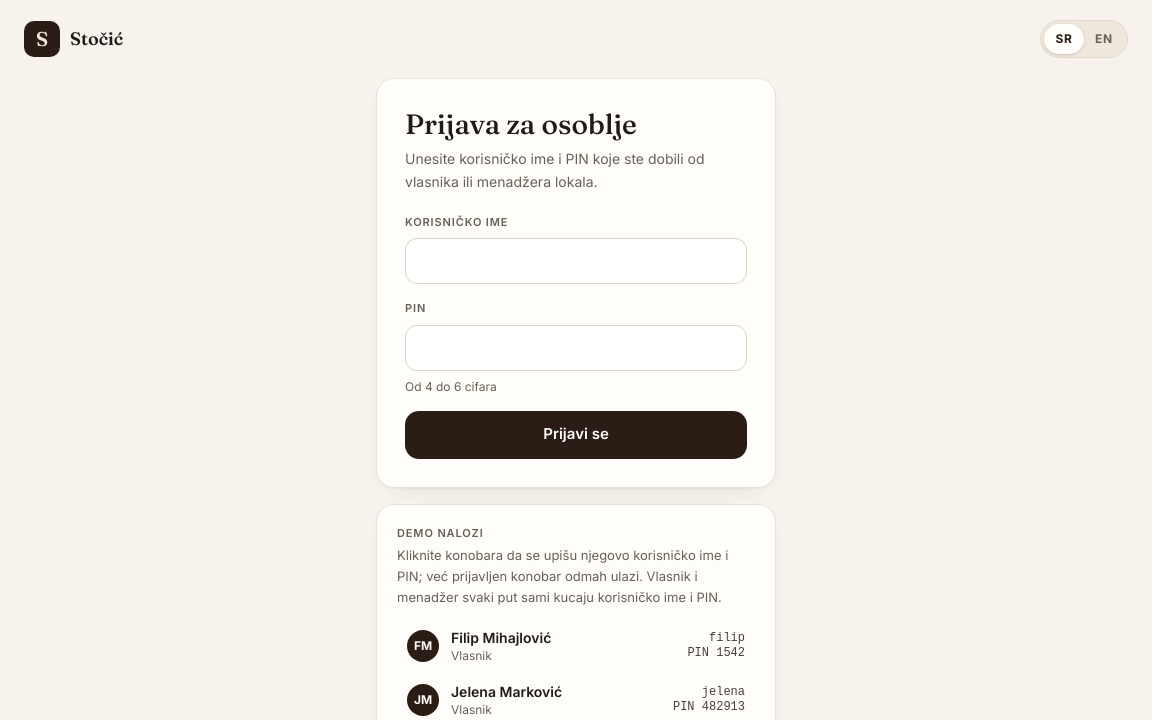
Scenario: staff › owners and managers are typed, never clicked; a waiter already signed in goes straight in from the demo list
Expected: the text "Filip Mihajlović" is shown, [451,629,551,646]
Type "ana" into the field labelled "Korisničko ime" at (576, 261), box [405,238,747,284]
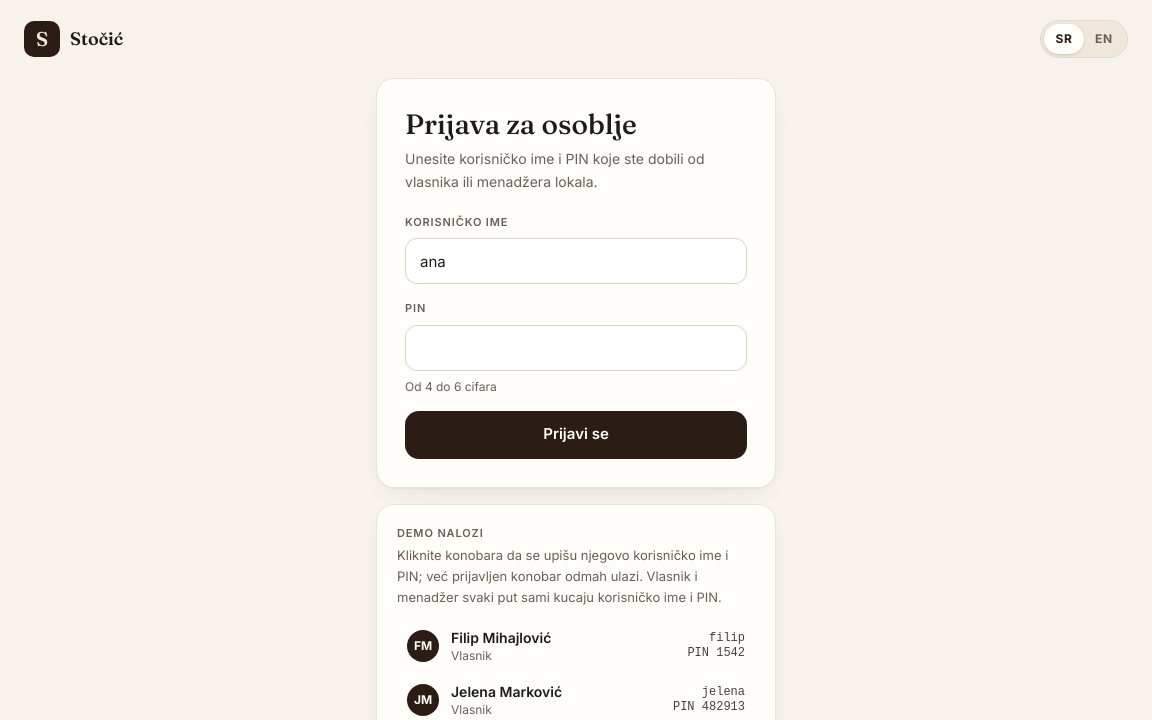
Type "641735" into the password field labelled "PIN" at (576, 348), box [405,324,747,370]
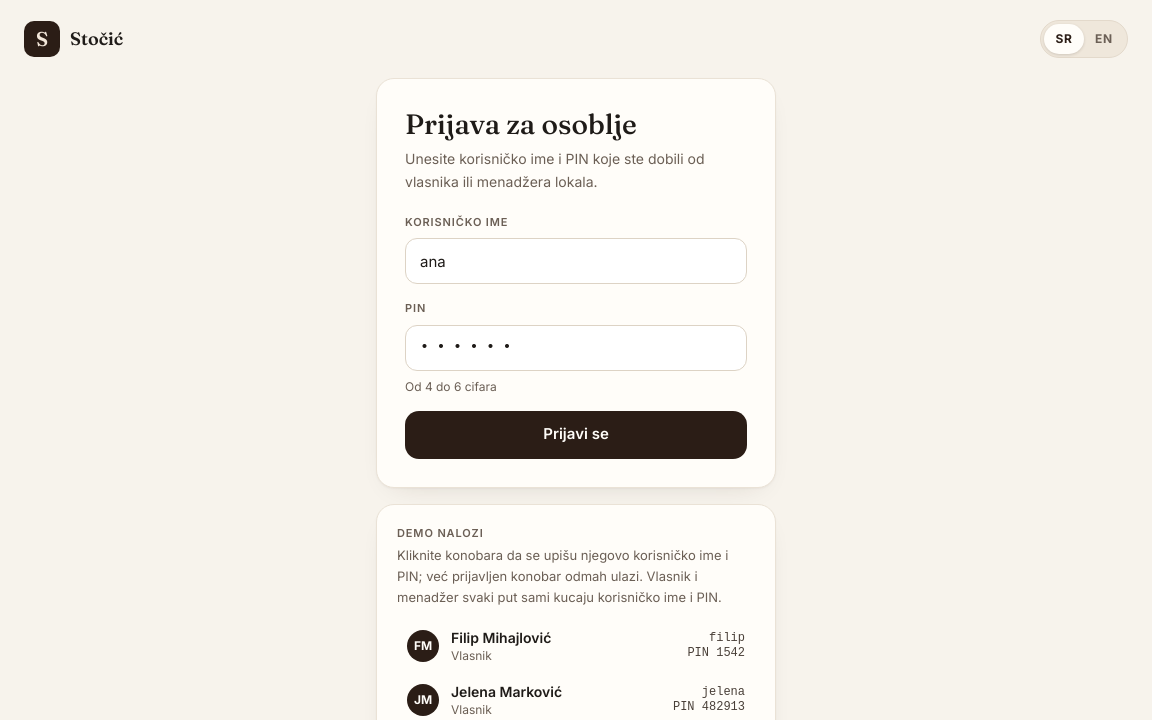
Click the button "Prijavi se" at (576, 434), box [405,410,747,458]
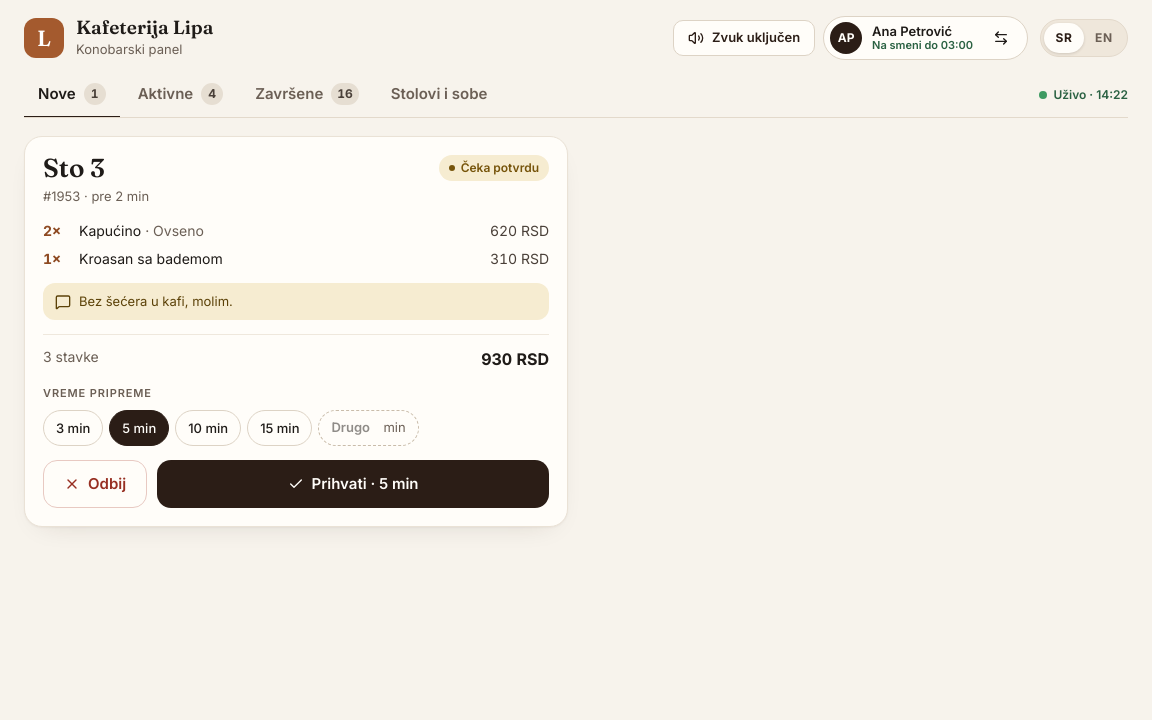
Expected: the heading "Sto 3" is shown, [43,152,105,184]
Click the button named "Promeni konobara" at (1001, 38), box [979,16,1023,60]
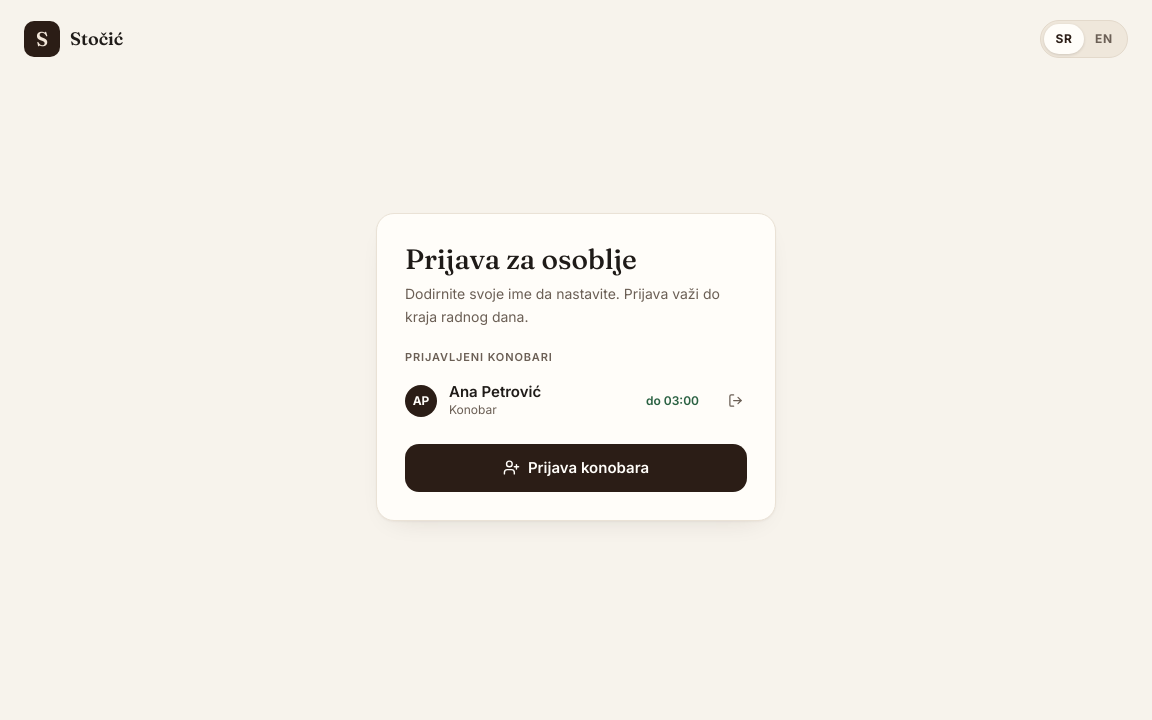
Click the button "Prijava konobara" at (576, 468), box [405,444,747,492]
(page scrolled)
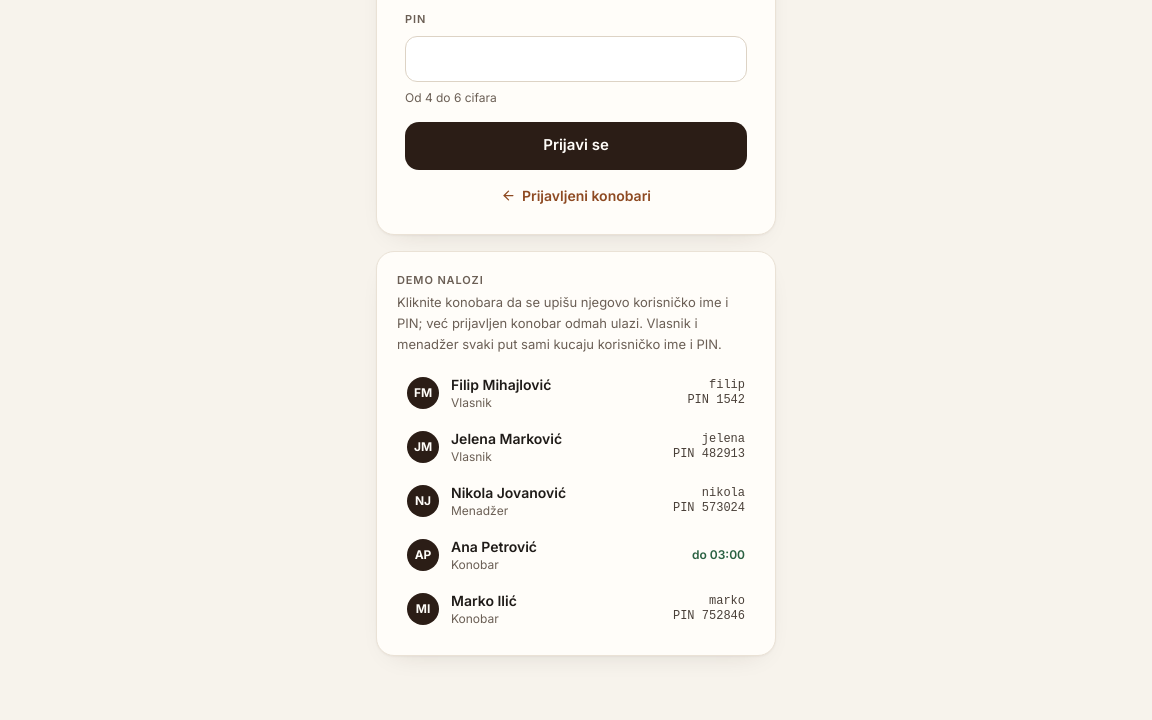
Click the button "AP Ana Petrović Konobar do 03:00" at (423, 555), box [397,529,755,581]
(page scrolled)
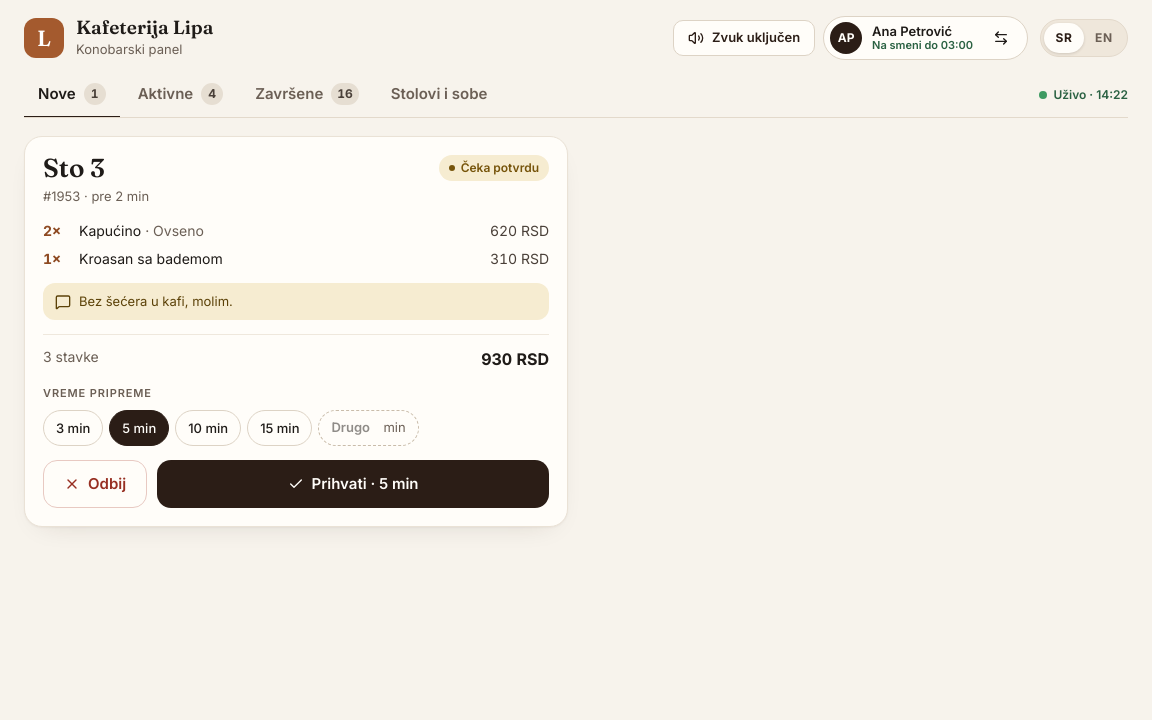
Expected: the heading "Sto 3" is shown, [43,152,105,184]
